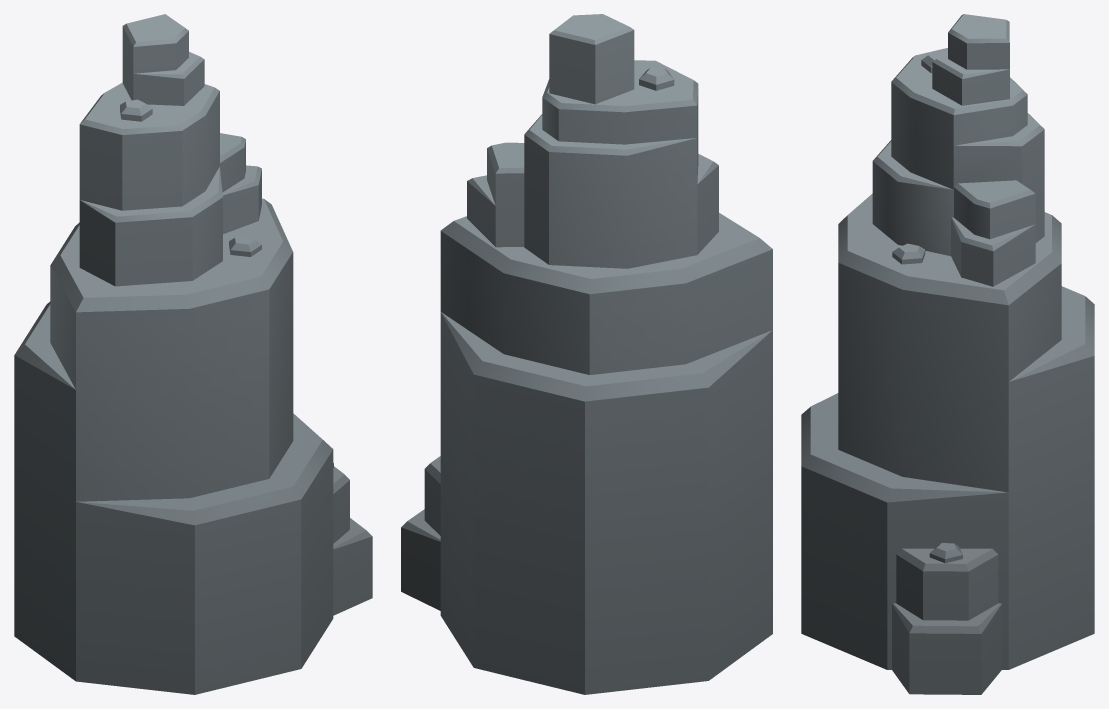
The model's file is Rock_1_P_Color1.glb.
The picture shows the model from 3 angles, left to right: view 1: azimuth 30°, elevation 25°; view 2: azimuth 150°, elevation 25°; view 3: azimuth 270°, elevation 25°; orthographic projection. The views are drawn at different scales.
Parts seen in each view (by area): view 1: Rock_1_P_Color1; view 2: Rock_1_P_Color1; view 3: Rock_1_P_Color1.
Boxes of the visible parts, x1,y1,x2,y2 form: Rock_1_P_Color1: (14, 14, 372, 694); Rock_1_P_Color1: (401, 14, 772, 694); Rock_1_P_Color1: (801, 14, 1094, 694).
Bounding box in the file's own units: 2.21 × 4.01 × 1.84.
Materials: 1 (1 with a texture image).
